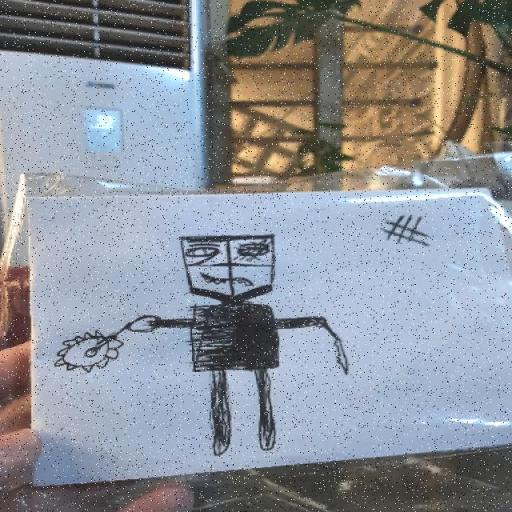person: (43, 228, 353, 466)
